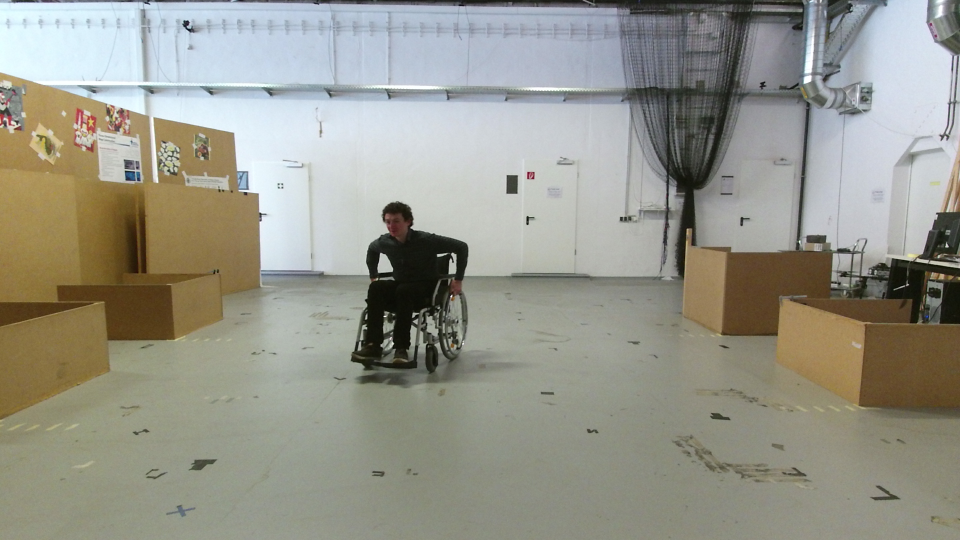wheelchair: (343, 199, 474, 375)
